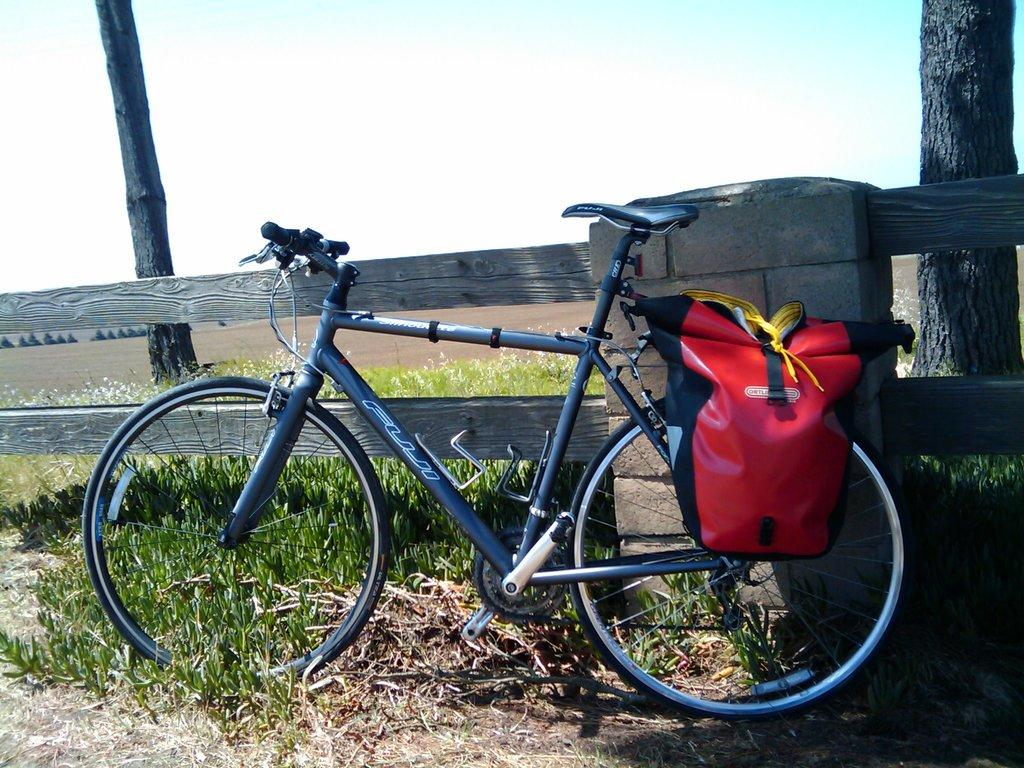Luggage-and-bags: (636, 289, 913, 556)
